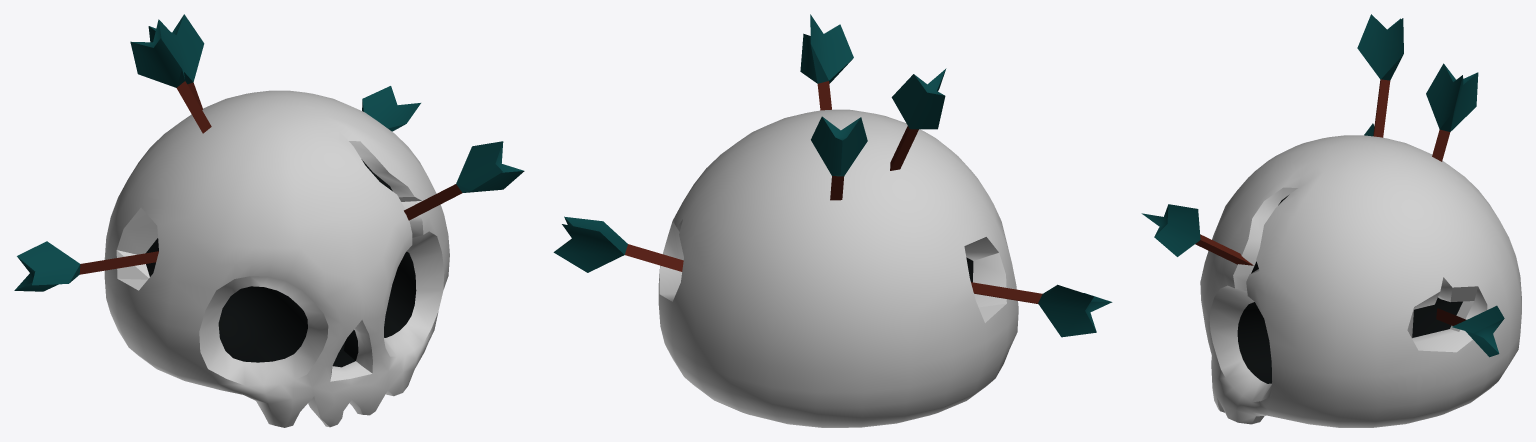
The model's file is character_skeleton_mage_head_broken.obj.
The picture shows the model from 3 angles, left to right: view 1: azimuth 30°, elevation 25°; view 2: azimuth 150°, elevation 25°; view 3: azimuth 270°, elevation 25°; orthographic projection. The views are drawn at different scales.
Visible parts, largest first — view 1: character_skeleton_mage_head_broken_Cube.7691; view 2: character_skeleton_mage_head_broken_Cube.7691; view 3: character_skeleton_mage_head_broken_Cube.7691.
Part boxes in pixels (x1,y1,x2,y2): character_skeleton_mage_head_broken_Cube.7691: (14,14,524,427); character_skeleton_mage_head_broken_Cube.7691: (553,14,1112,427); character_skeleton_mage_head_broken_Cube.7691: (1141,14,1521,427).
Bounding box in the file's own units: 1.45 × 1.08 × 1.08.
